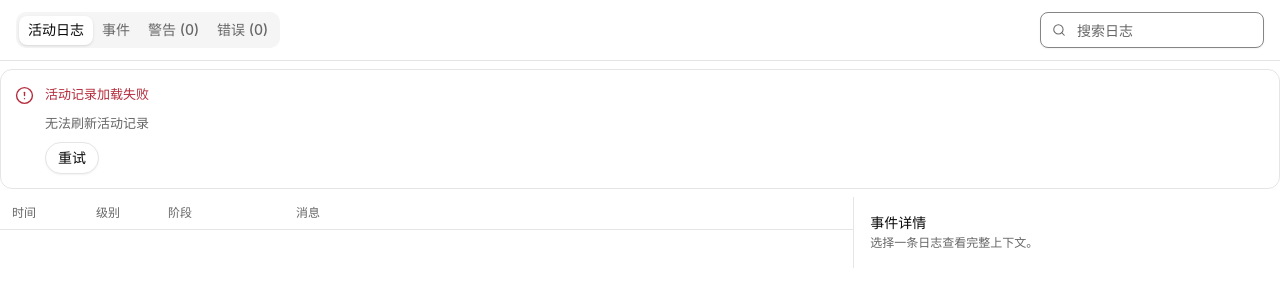
Scenario: ActivityWorkbench › does not claim a successful empty page when the initial activity read fails
Expected: the message shows "活动记录加载失败", x1=45 y1=86 x2=149 y2=102
Expected: the text "暂无符合条件的真实事件" is not shown
Click the button "重试".
click(72, 158)  # box x1=45 y1=142 x2=99 y2=174
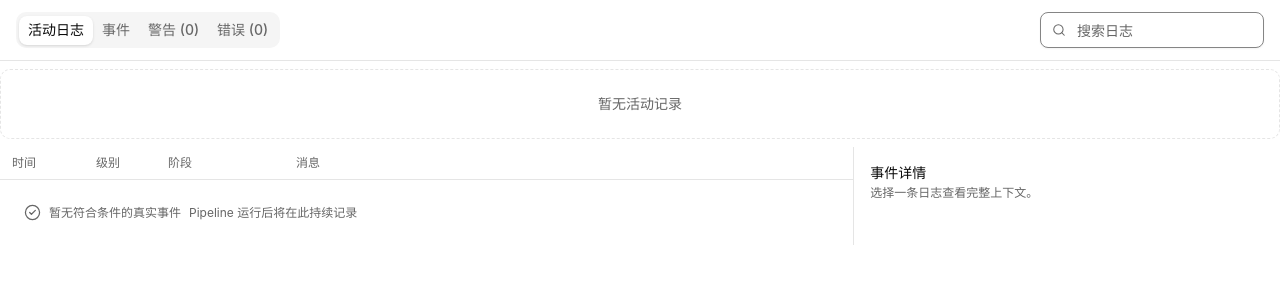
Result: the text "暂无符合条件的真实事件" is shown at x1=49 y1=204 x2=181 y2=220
Result: the message "活动记录加载失败 无法刷新活动记录 重试" is gone
